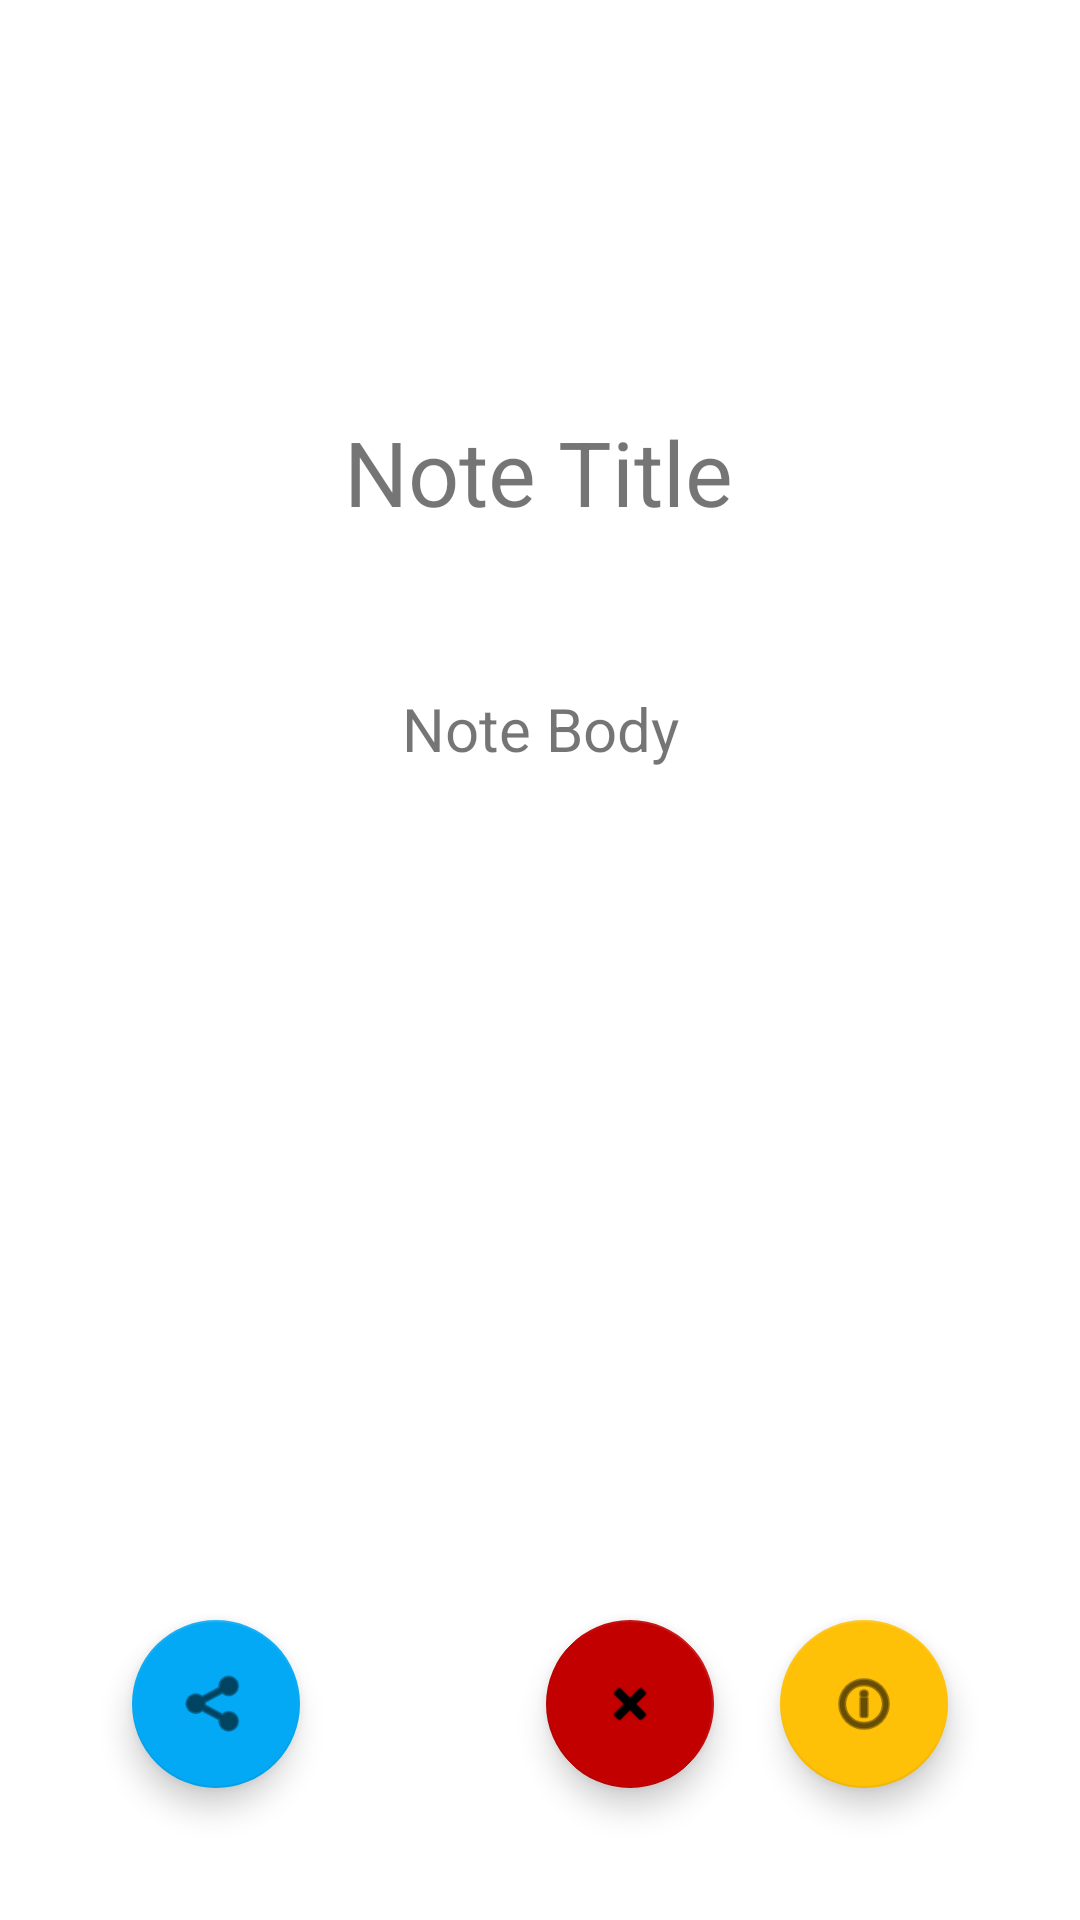

Icon bounding boxes for this 1080px×1920px phone screenshot, format (x1, y1, x2, y2):
info details: (780, 1620, 948, 1788)
share: (132, 1620, 300, 1788)
